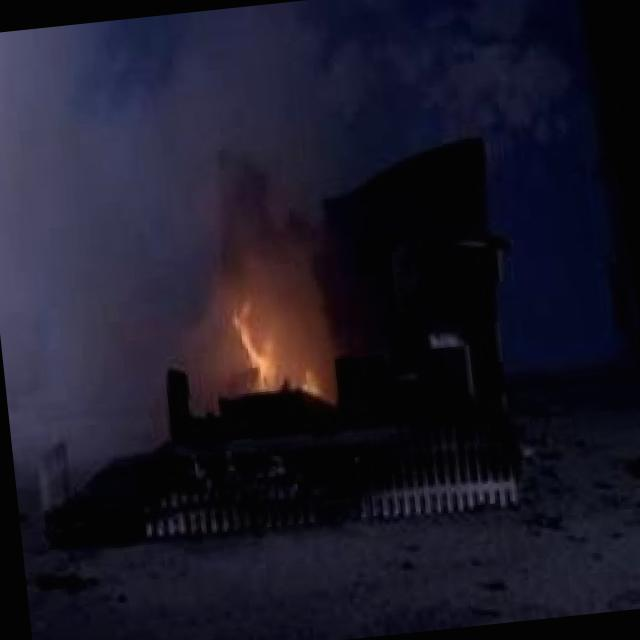fire: (210, 258, 333, 412)
smoke: (0, 19, 180, 348)
